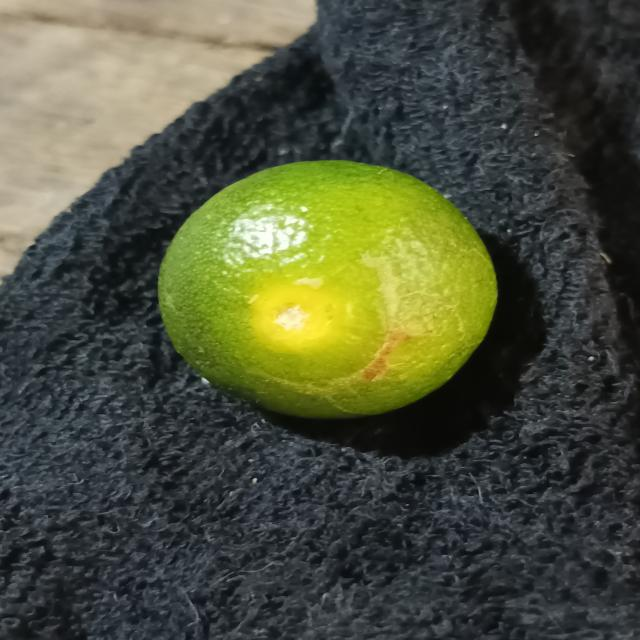thrips: (154, 153, 502, 424)
